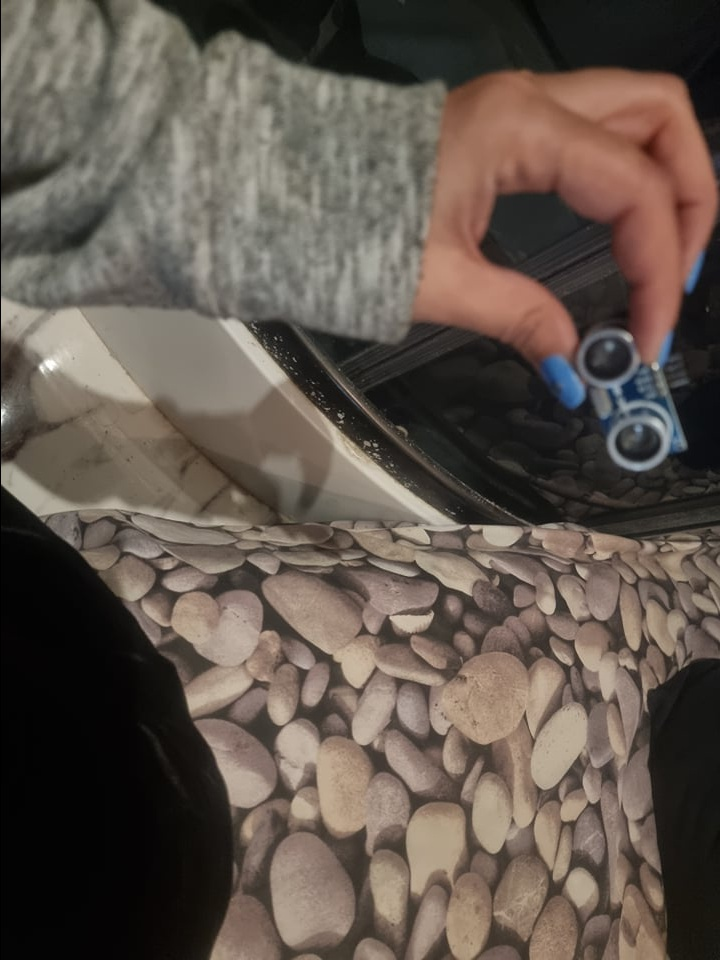SENSOR: (575, 311, 675, 478)
